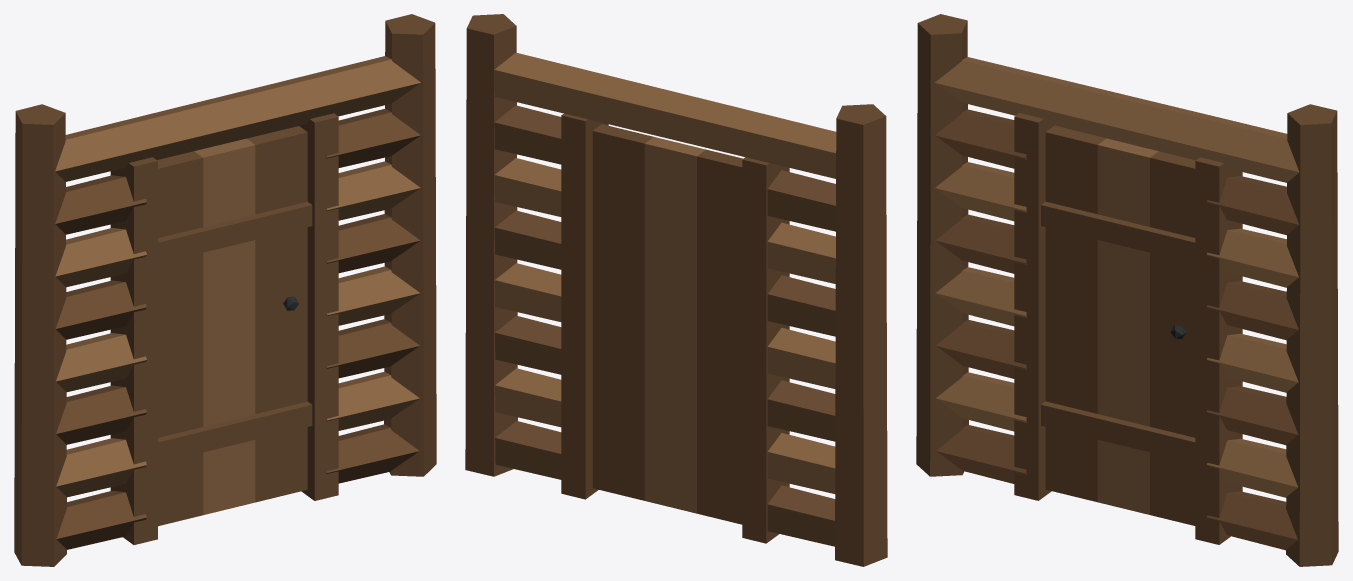
The model's file is wall-log-door.glb.
3 views of the same model, side by side, from view 1: azimuth 30°, elevation 25°; view 2: azimuth 150°, elevation 25°; view 3: azimuth 330°, elevation 25° (orthographic).
Parts seen in each view (by area): view 1: wall_log_door, door_hinge; view 2: wall_log_door, door_hinge; view 3: wall_log_door, door_hinge.
Boxes of the visible parts, left/top/right/bottom form: wall_log_door: left=14, top=14, right=436, bottom=566; door_hinge: left=157, top=126, right=312, bottom=526; wall_log_door: left=465, top=14, right=887, bottom=566; door_hinge: left=592, top=124, right=742, bottom=524; wall_log_door: left=916, top=14, right=1338, bottom=566; door_hinge: left=1041, top=125, right=1195, bottom=525.
Bounding box in the file's own units: 2.07 × 2.1 × 0.22.
